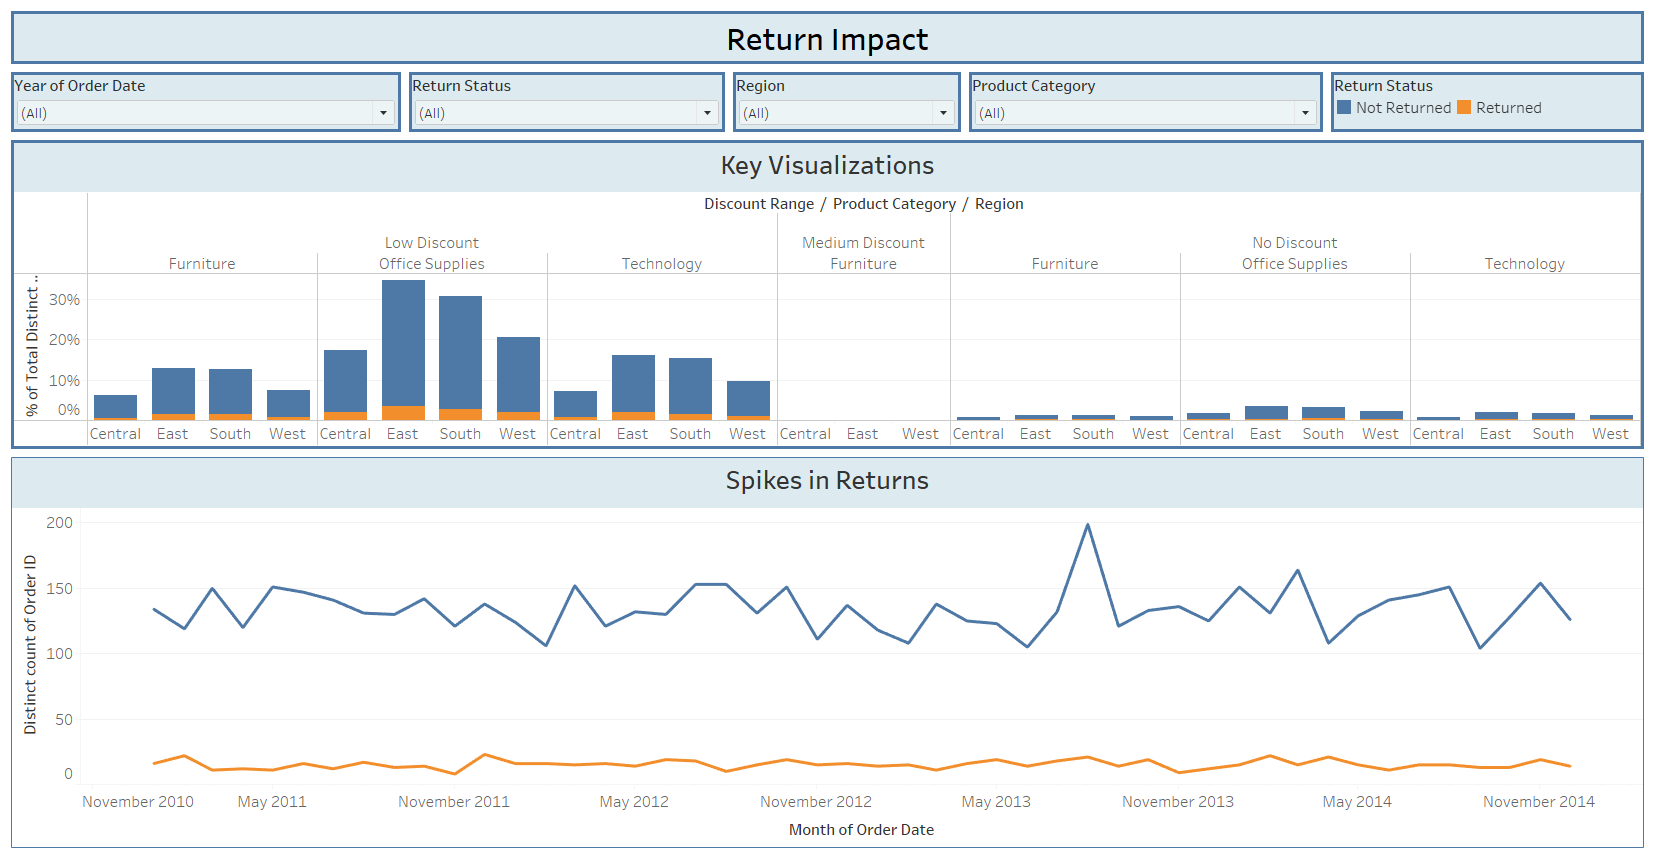

What the dashboard file says about the page in this screenshot:
{"tool":"tableau","page":{"name":"Return Impact","canvas":[1000,1000],"units":"permille","ordinal":2},"visuals":[{"type":"text","box":[4.8,10,990.3,71.1]},{"type":"filter","title":"Key Visualizations","param":"[federated.0lc2qp609r7qte17zzql31nmvyj1].[yr:Order Date:ok]","box":[4.8,81.1,240.5,79.1]},{"type":"filter","title":"Key Visualizations","param":"[federated.0lc2qp609r7qte17zzql31nmvyj1].[none:Calculation_1748522578574237696:n","box":[245.3,81.1,195.3,79.1]},{"type":"filter","title":"Key Visualizations","param":"[federated.0lc2qp609r7qte17zzql31nmvyj1].[none:Region:nk]","box":[440.6,81.1,142.1,79.1]},{"type":"filter","title":"Key Visualizations","param":"[federated.0lc2qp609r7qte17zzql31nmvyj1].[none:Product Category:nk]","box":[582.7,81.1,218.6,79.1]},{"type":"legend","title":"Key Visualizations","param":"[federated.0lc2qp609r7qte17zzql31nmvyj1].[none:Calculation_1748522578574237696:n","box":[801.3,81.1,193.9,79.1]},{"type":"worksheet","title":"Key Visualizations","mark":"Automatic","cols":["Calculation_1748522578632425475","Product Category","Region"],"box":[4.8,160.2,990.3,367.5]},{"type":"worksheet","title":"Spikes in Returns","mark":"Automatic","rows":["Order ID"],"cols":["Order Date"],"box":[4.8,527.7,990.3,462.3]}]}

Visuals, with their boxes on the dashboard's canvas, which has no fixed pixel size, in thousandths of its width and height (x1, y1, x2, y2). These are canvas units, not pixel positions in the 1656x859 screenshot, which may show the page scaled, cropped or inside an application window:
text: {"x1": 5, "y1": 10, "x2": 995, "y2": 81}
"Key Visualizations" filter: {"x1": 5, "y1": 81, "x2": 245, "y2": 160}
"Key Visualizations" filter: {"x1": 245, "y1": 81, "x2": 441, "y2": 160}
"Key Visualizations" filter: {"x1": 441, "y1": 81, "x2": 583, "y2": 160}
"Key Visualizations" filter: {"x1": 583, "y1": 81, "x2": 801, "y2": 160}
"Key Visualizations" legend: {"x1": 801, "y1": 81, "x2": 995, "y2": 160}
"Key Visualizations" worksheet: {"x1": 5, "y1": 160, "x2": 995, "y2": 528}
"Spikes in Returns" worksheet: {"x1": 5, "y1": 528, "x2": 995, "y2": 990}
